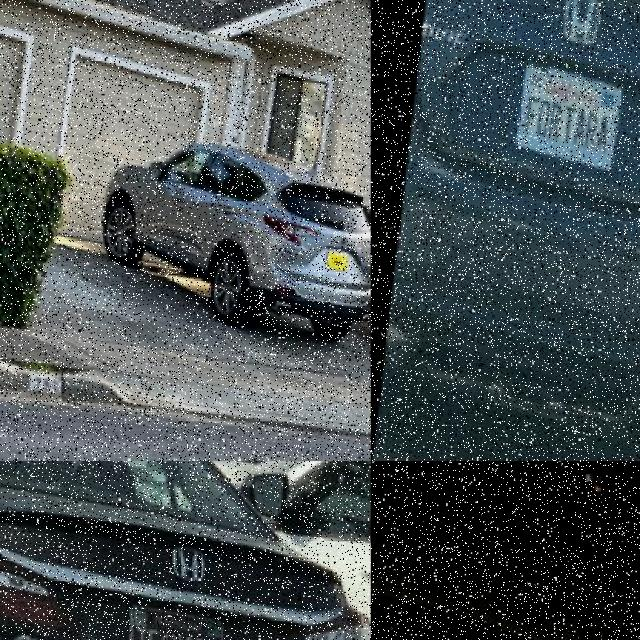licenseplate: (512, 55, 620, 167), (127, 597, 224, 640), (326, 241, 347, 262)
